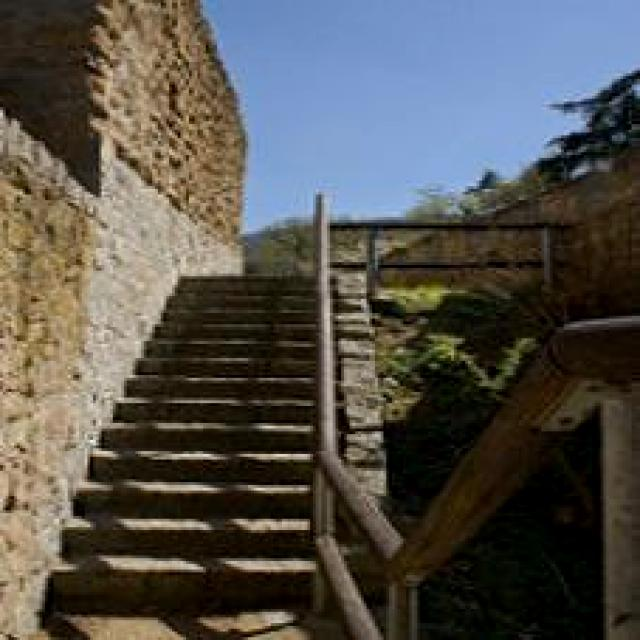upstair: (15, 362, 362, 607)
